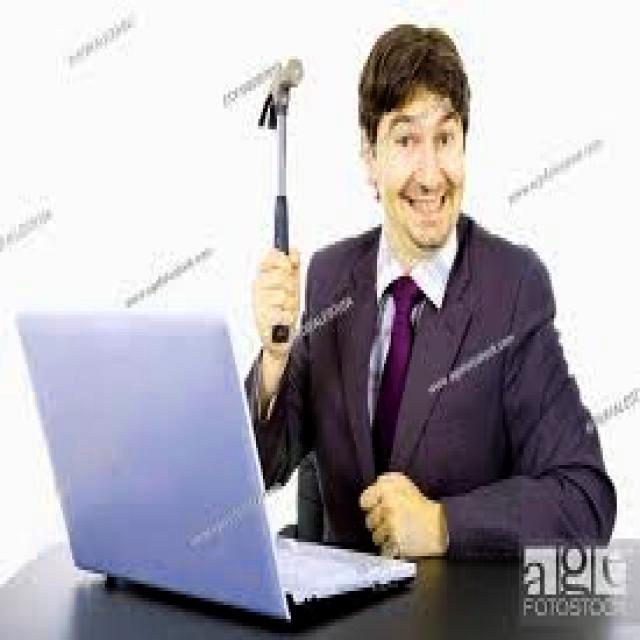hammer: (252, 40, 316, 352)
